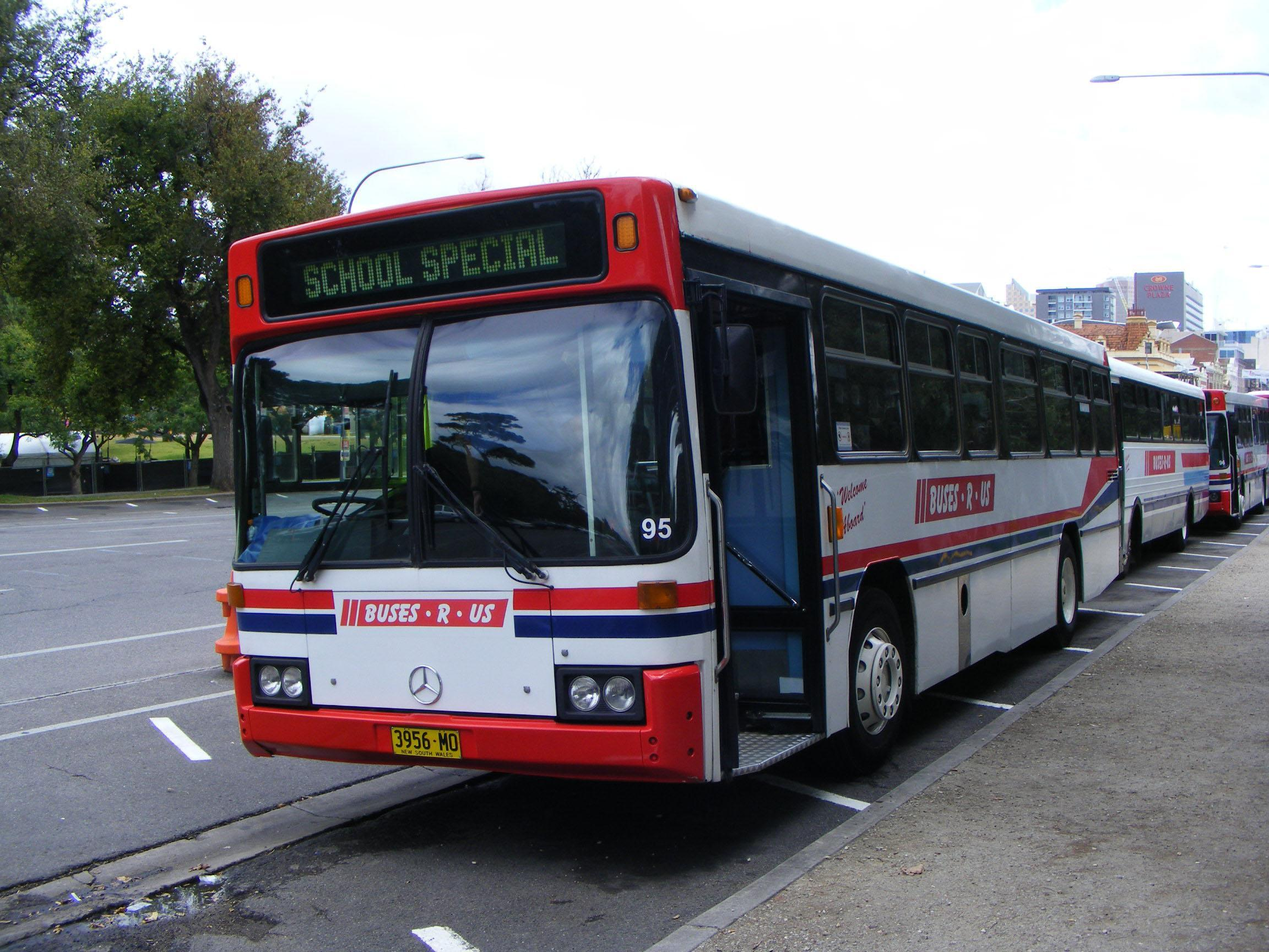Bus: (215, 178, 1121, 791)
